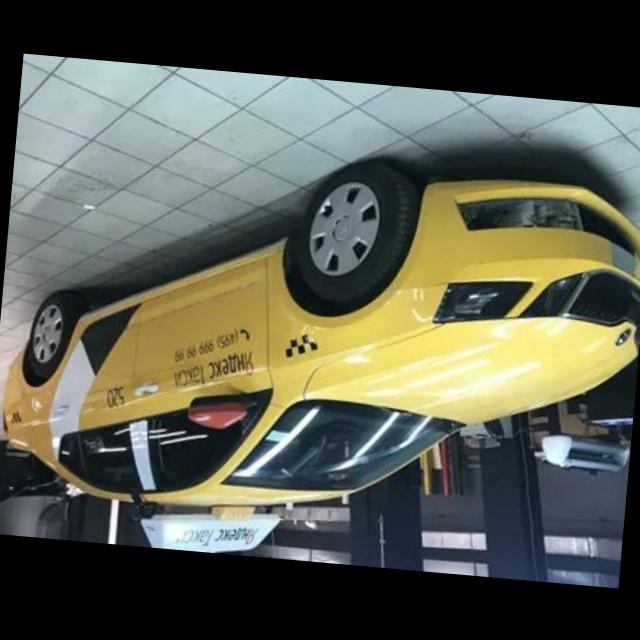taxi: (1, 130, 640, 589)
